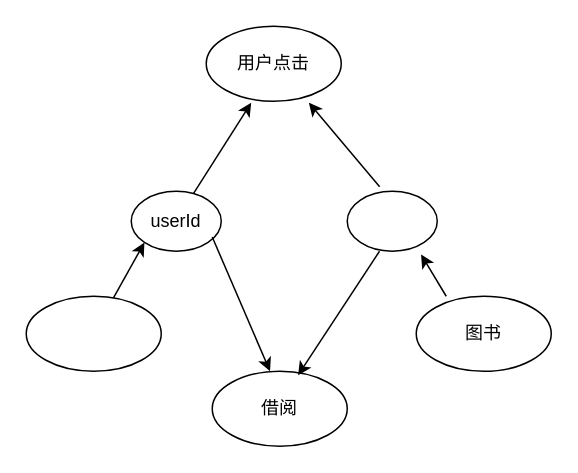
Image size: 578x473. Some labels were removed from this diagram. Each missing label, with the centre of its shape:
"bookId" goes at point 391,220.
"用户" goes at point 93,333.
